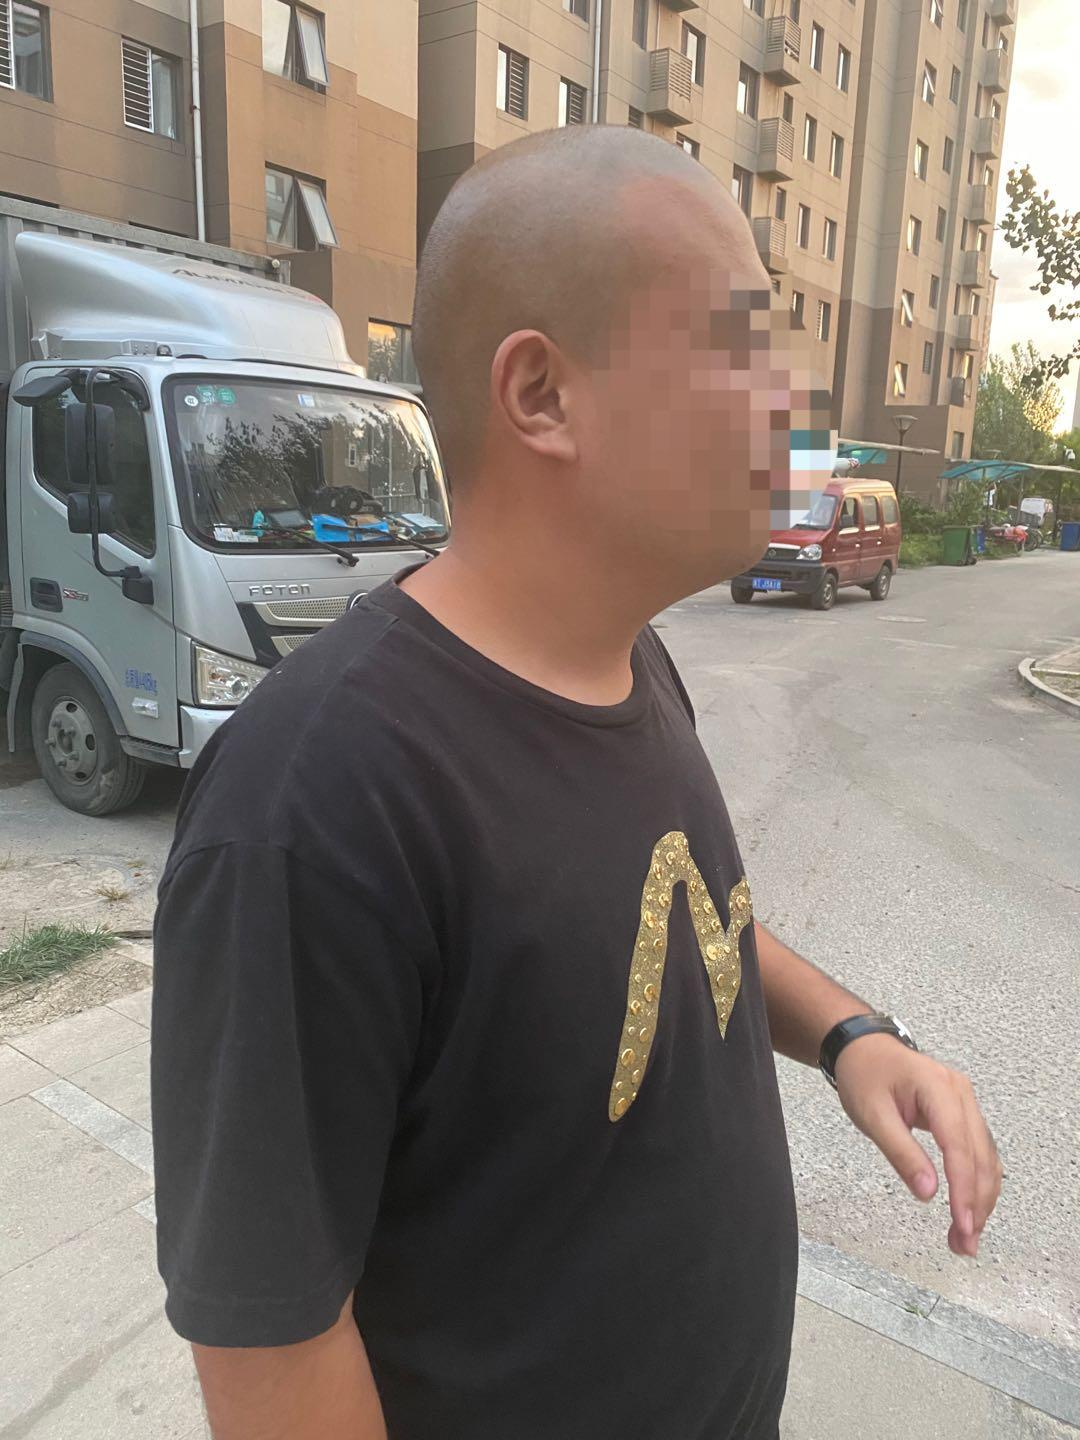smoke: (779, 449, 868, 476)
